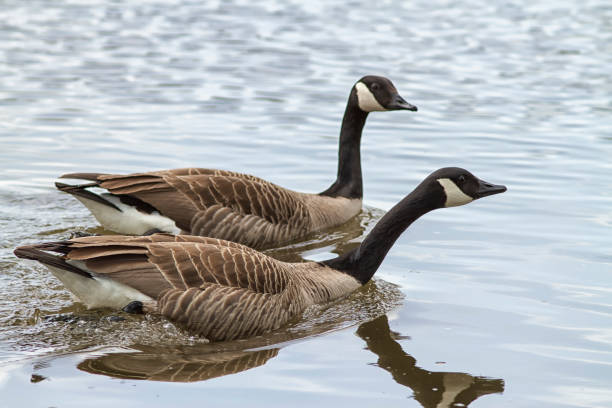goose: (14, 162, 517, 347), (51, 73, 422, 246)
